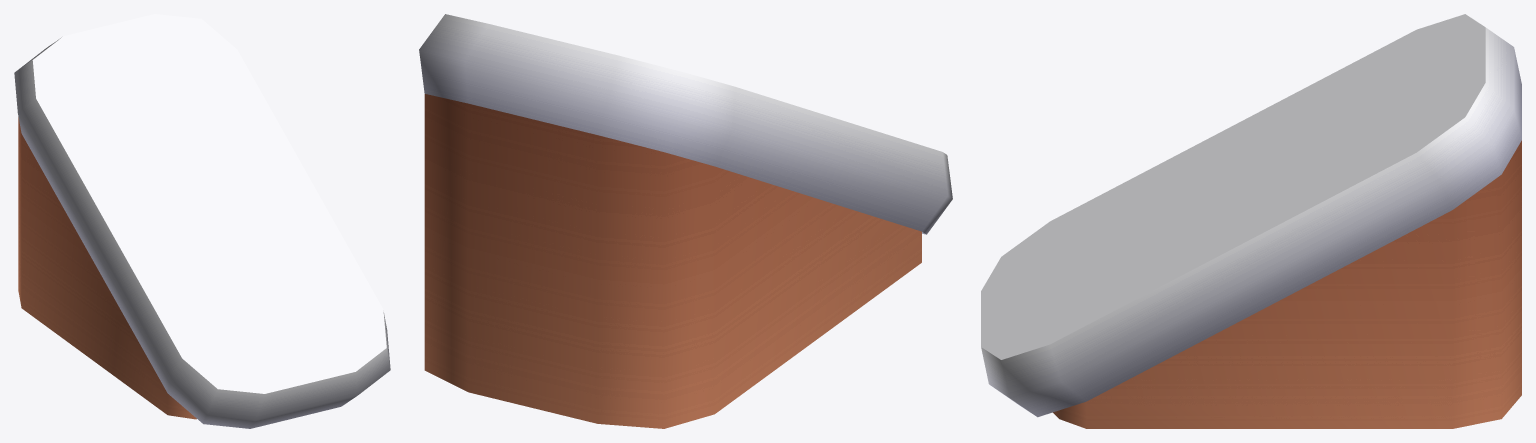
File: block-snow-large-slope-steep-narrow.glb
The picture shows the model from 3 angles, left to right: view 1: azimuth 30°, elevation 25°; view 2: azimuth 150°, elevation 25°; view 3: azimuth 270°, elevation 25°; orthographic projection. The views are drawn at different scales.
Visible parts, largest first — view 1: block-snow-large-slope-steep-narrow; view 2: block-snow-large-slope-steep-narrow; view 3: block-snow-large-slope-steep-narrow.
Boxes of the visible parts, bbox=[...] form: block-snow-large-slope-steep-narrow: bbox=[14, 14, 390, 428]; block-snow-large-slope-steep-narrow: bbox=[419, 14, 952, 428]; block-snow-large-slope-steep-narrow: bbox=[981, 14, 1521, 428].
Size of the model in its own units: 1.08 by 1.22 by 1.86.
Materials: 1 (1 with a texture image).
